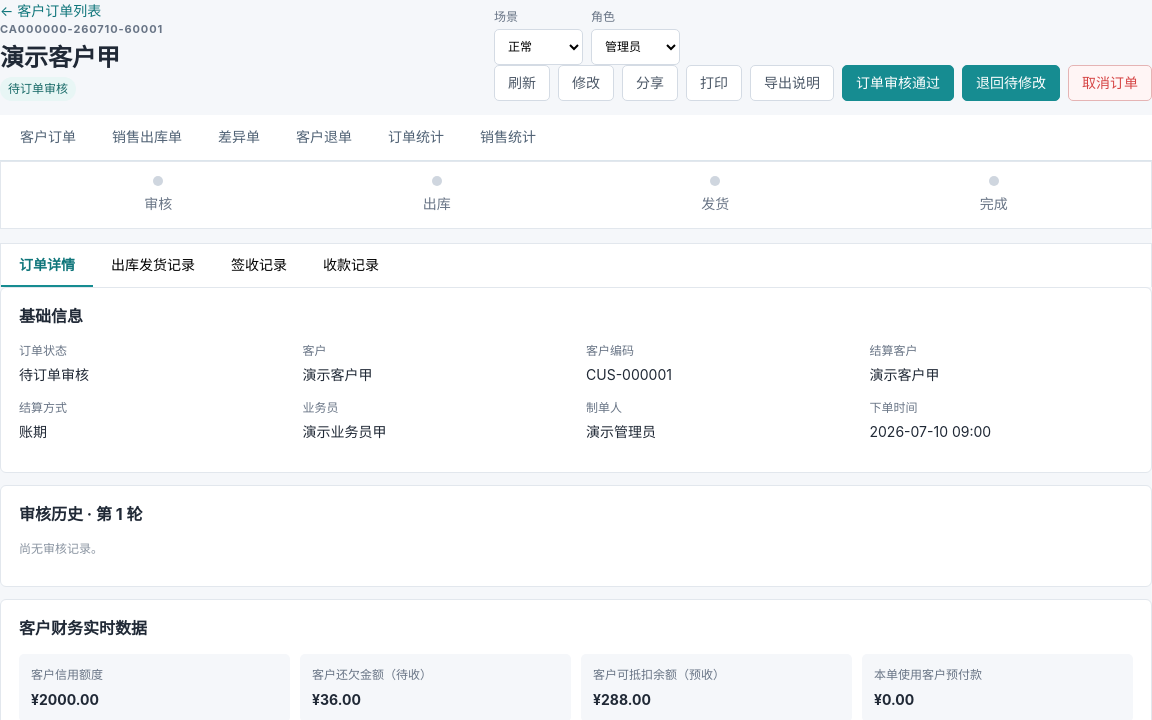
Test: order views › renders ORD-004 fulfillment instead of the former unavailable placeholder
This screenshot has width=1152, height=720.
Step 1. Click the button "出库发货记录" → (153, 265), box x1=93 y1=244 x2=213 y2=287
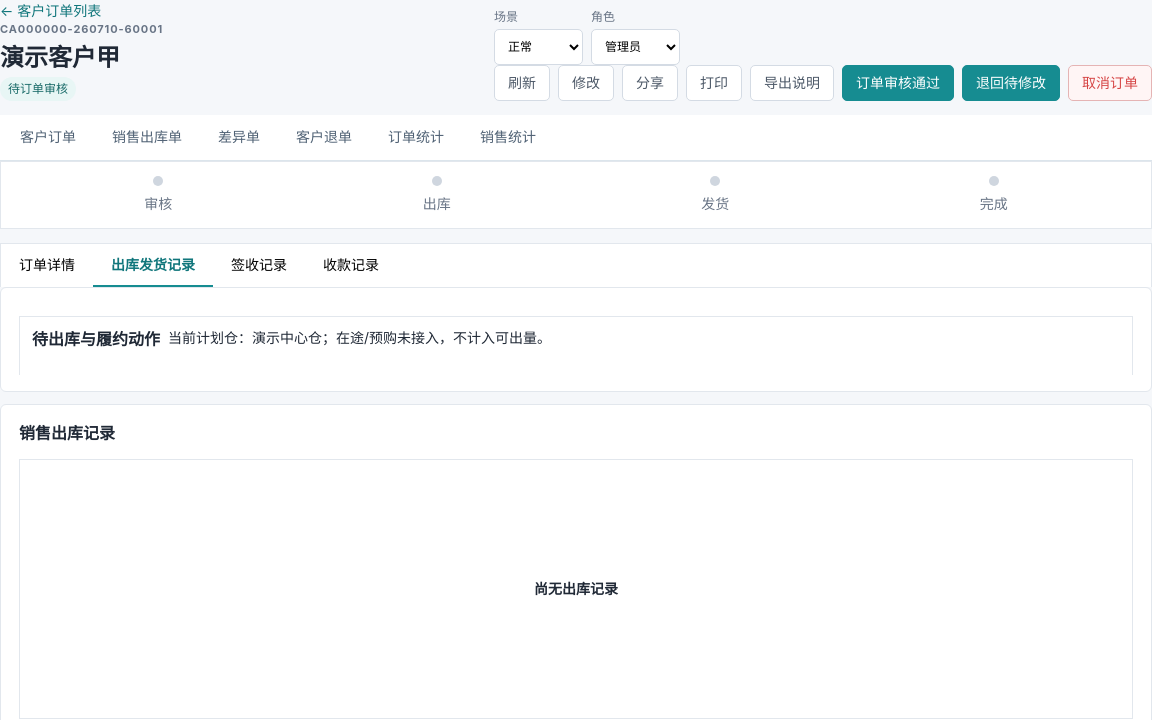
Expected: the text "待出库与履约动作" is shown, x1=32 y1=327 x2=160 y2=351
Expected: the text "销售出库记录" is shown, x1=19 y1=423 x2=115 y2=443
Expected: the text "尚无出库记录" is shown, x1=534 y1=578 x2=618 y2=599
